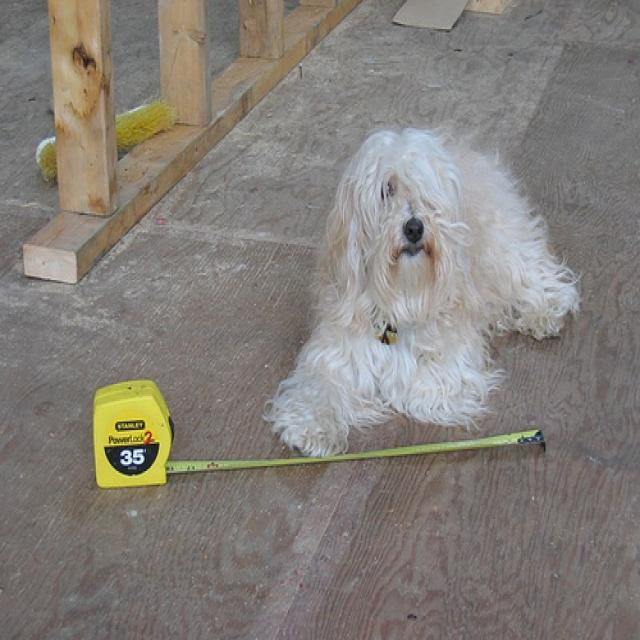dog-havanese: (268, 131, 581, 456)
